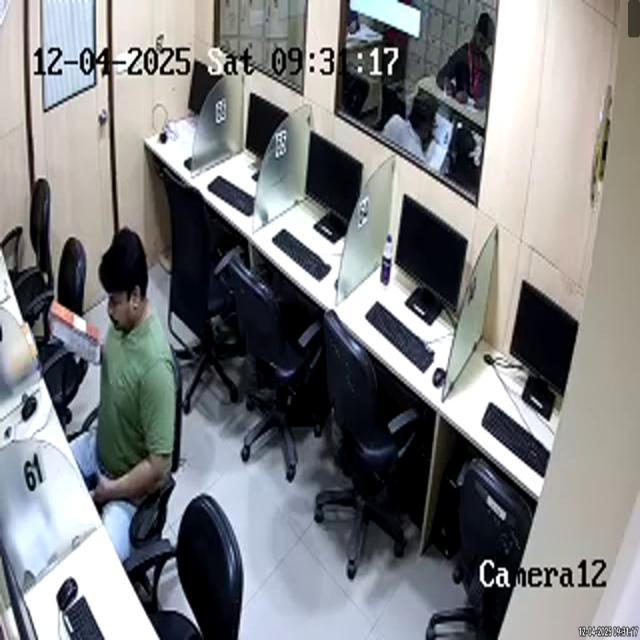phone: (80, 463, 103, 496)
